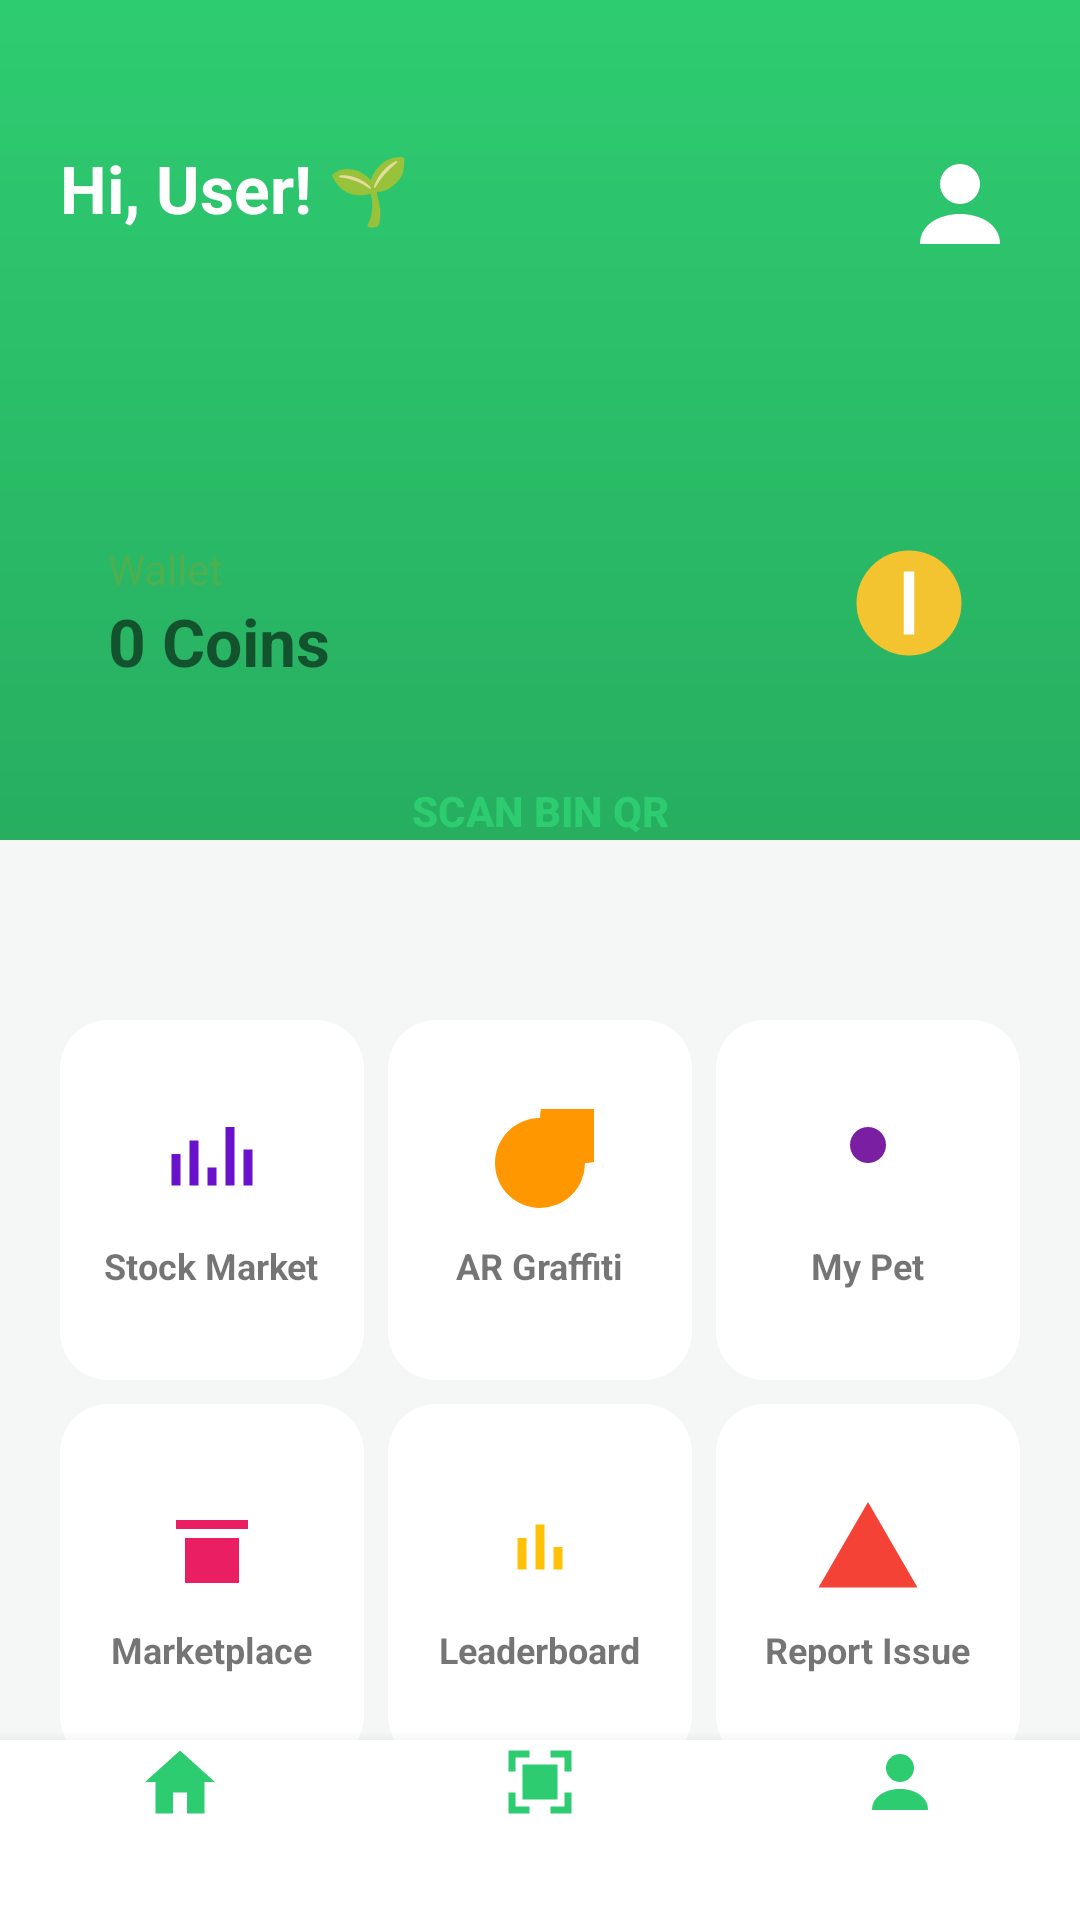

Locate icon controls on the screen. Image size 1080 x 1920, boxes as (x1, y1, x2, y2).
coin: (856, 550, 962, 656)
home: (145, 1750, 215, 1814)
scan: (508, 1750, 572, 1814)
user: (920, 164, 1000, 244), (872, 1754, 928, 1810)
